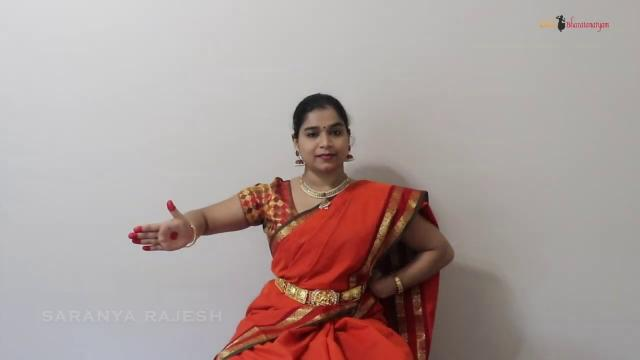ardhachandra: (113, 176, 214, 284)
